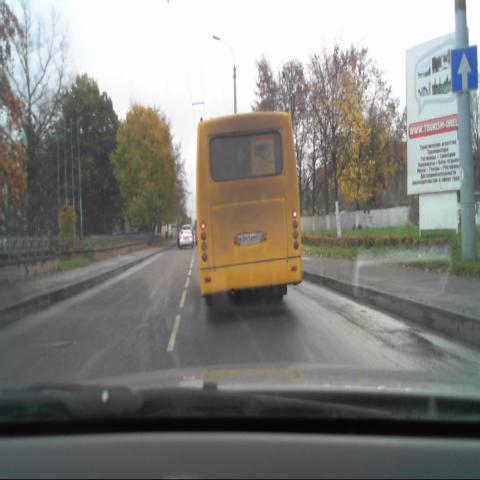5_5: (450, 43, 480, 93)
